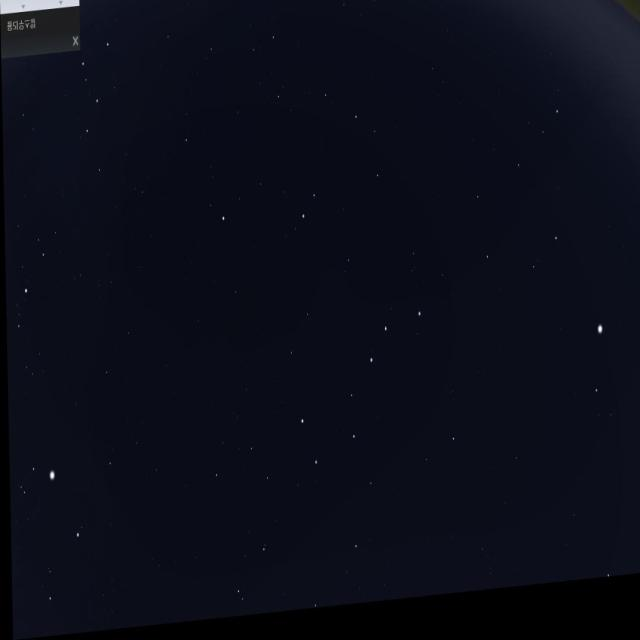cassiopeia: (71, 32, 124, 193)
ursa_major: (288, 303, 424, 492)
